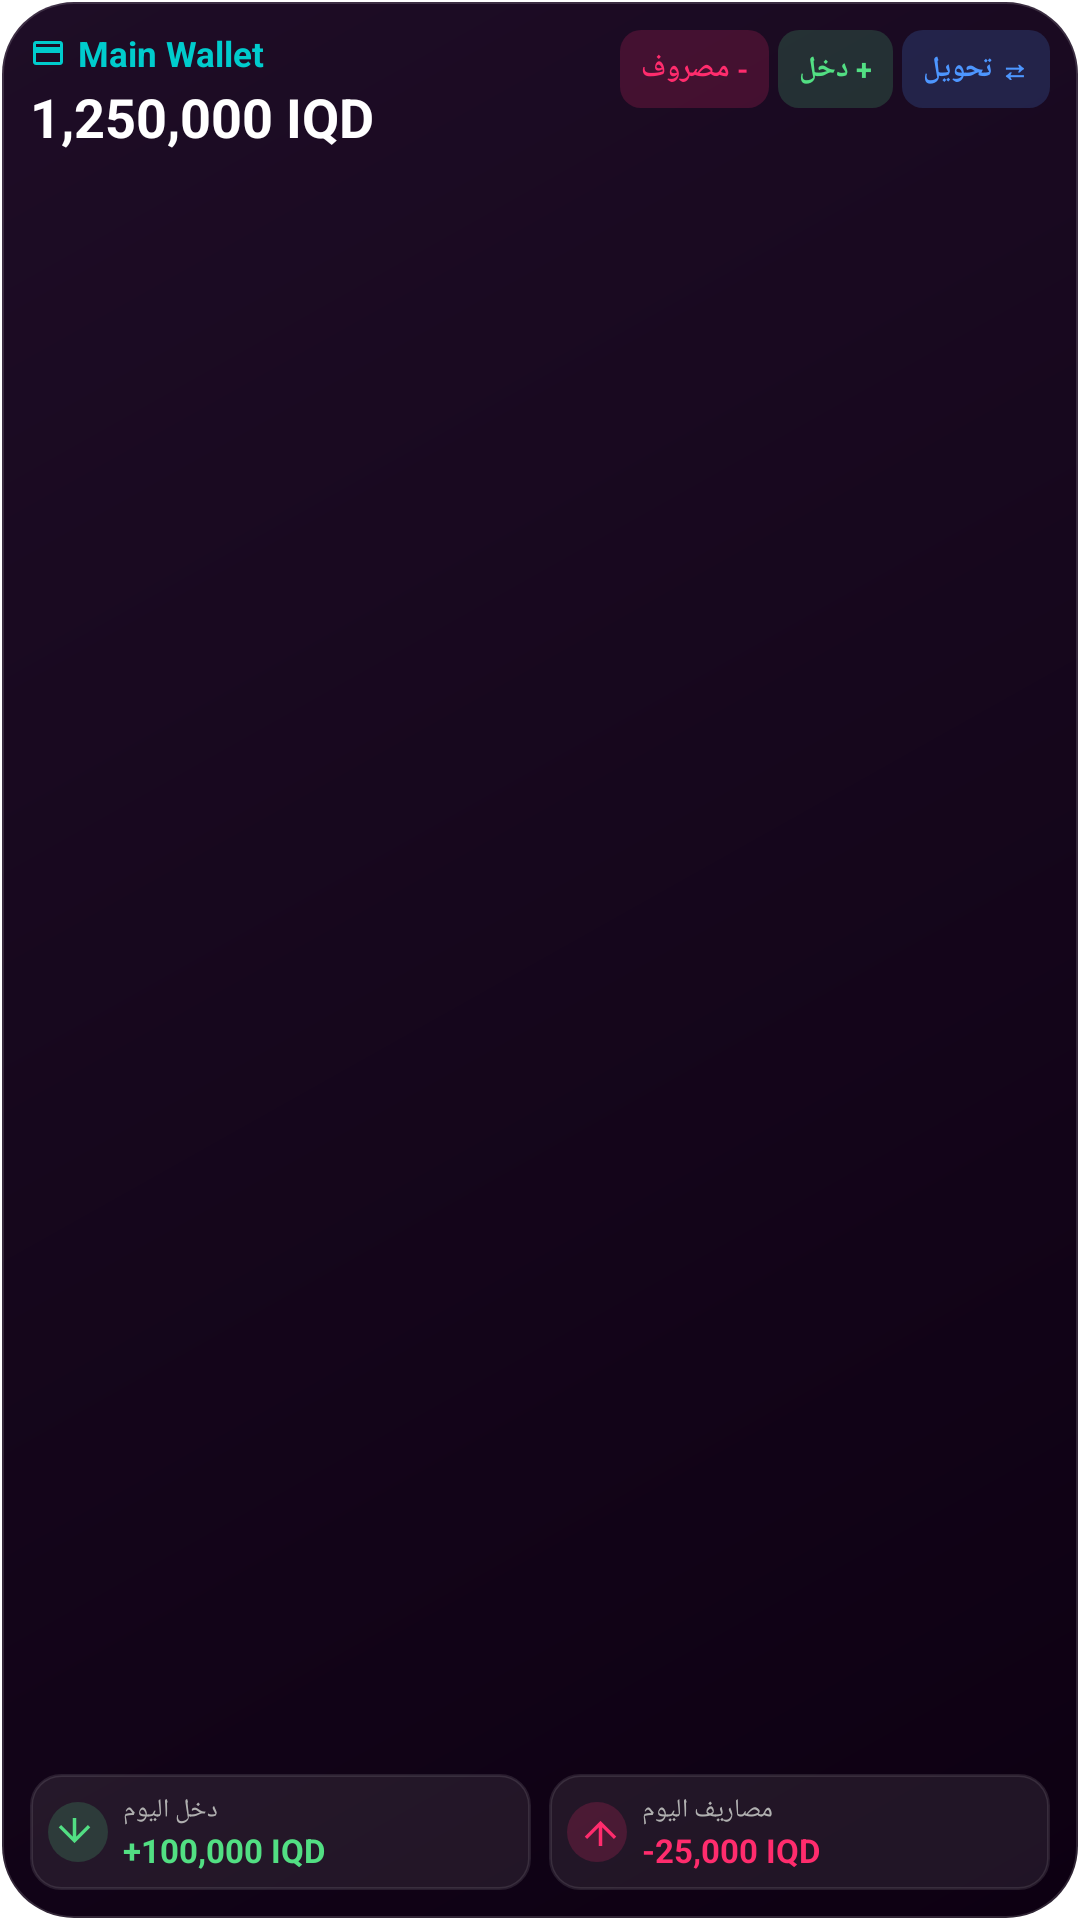

Icon click points for this 1080×1920 phone screenshot, format (x=x, y=y):
widget card: (x=48, y=53)
